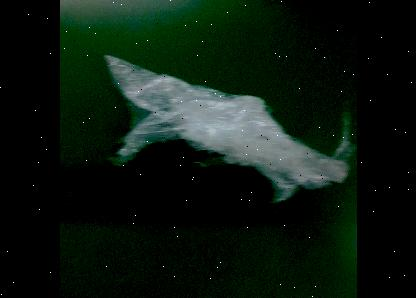Others: (99, 54, 354, 204)
